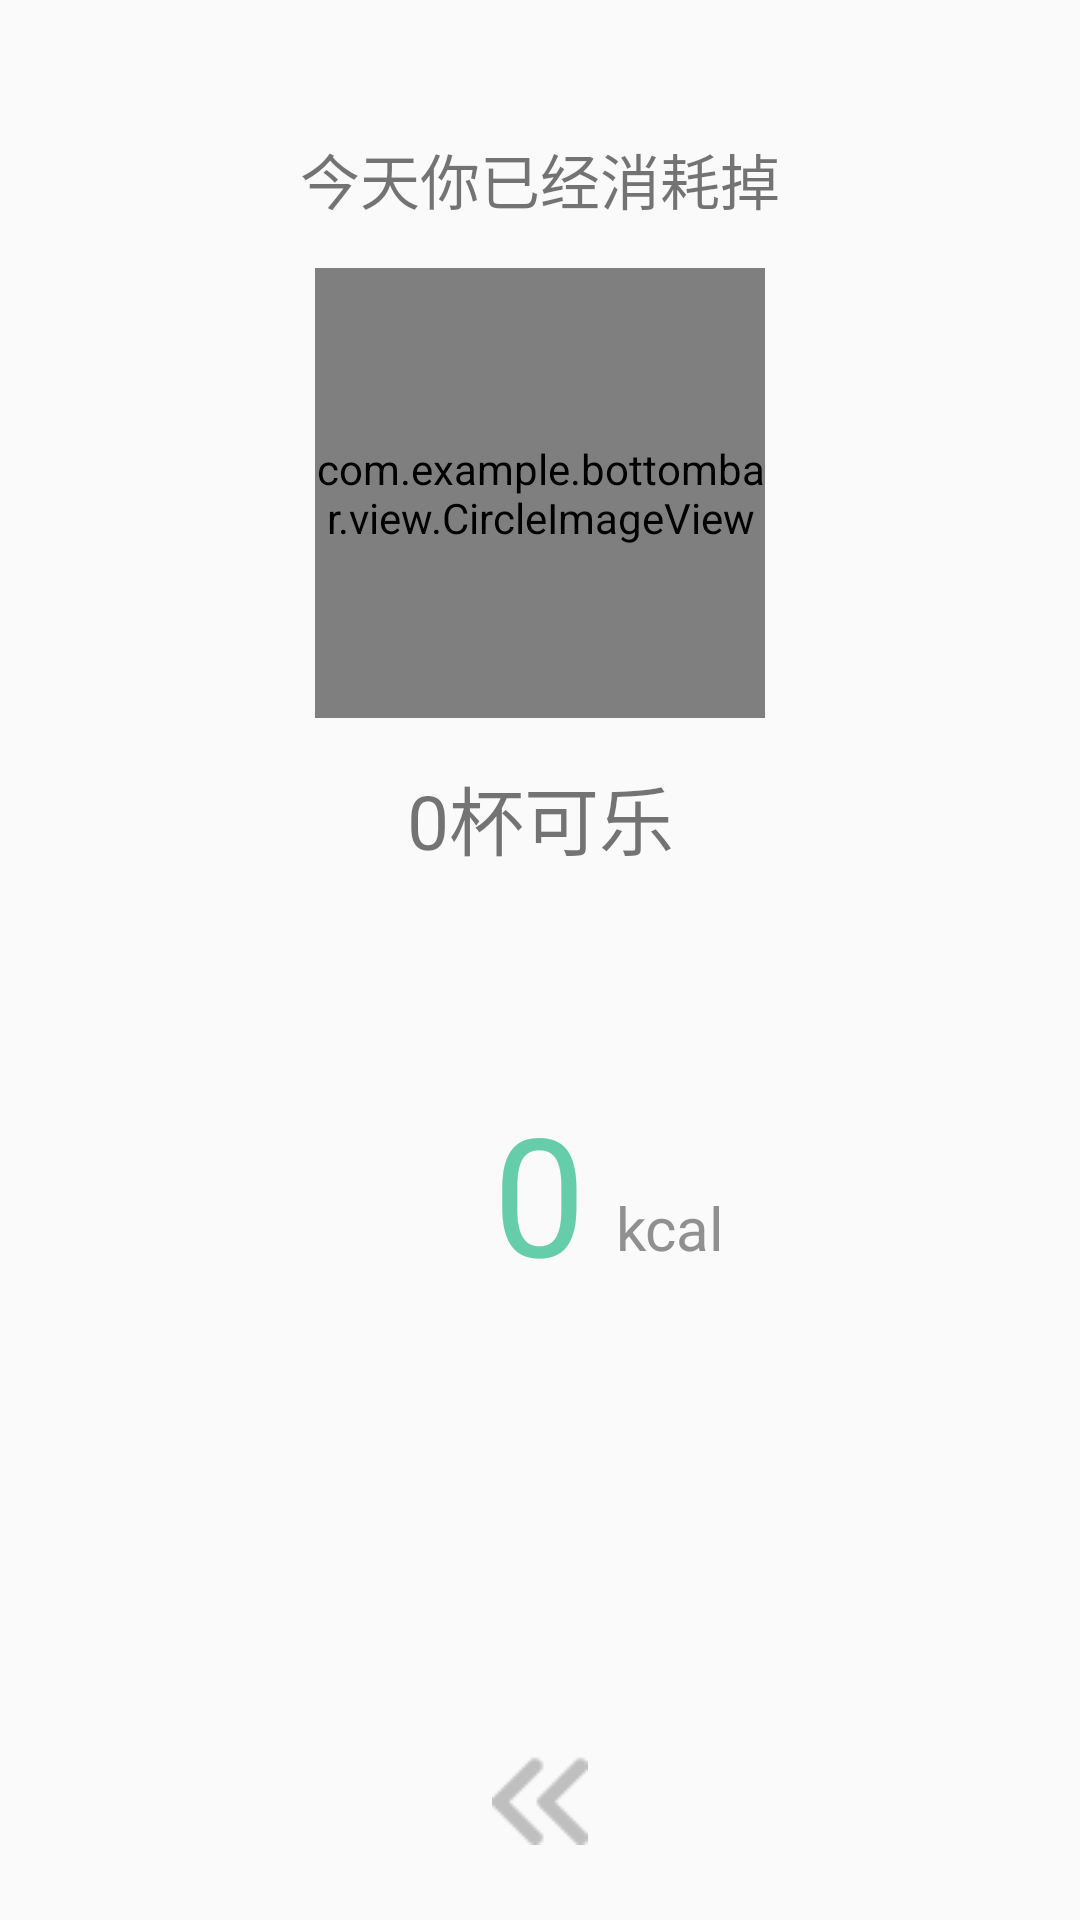

Where icons sit on this 1080w x 1920h app screen, as (x1, y1, x2, y2):
back: (492, 1758, 588, 1845)
